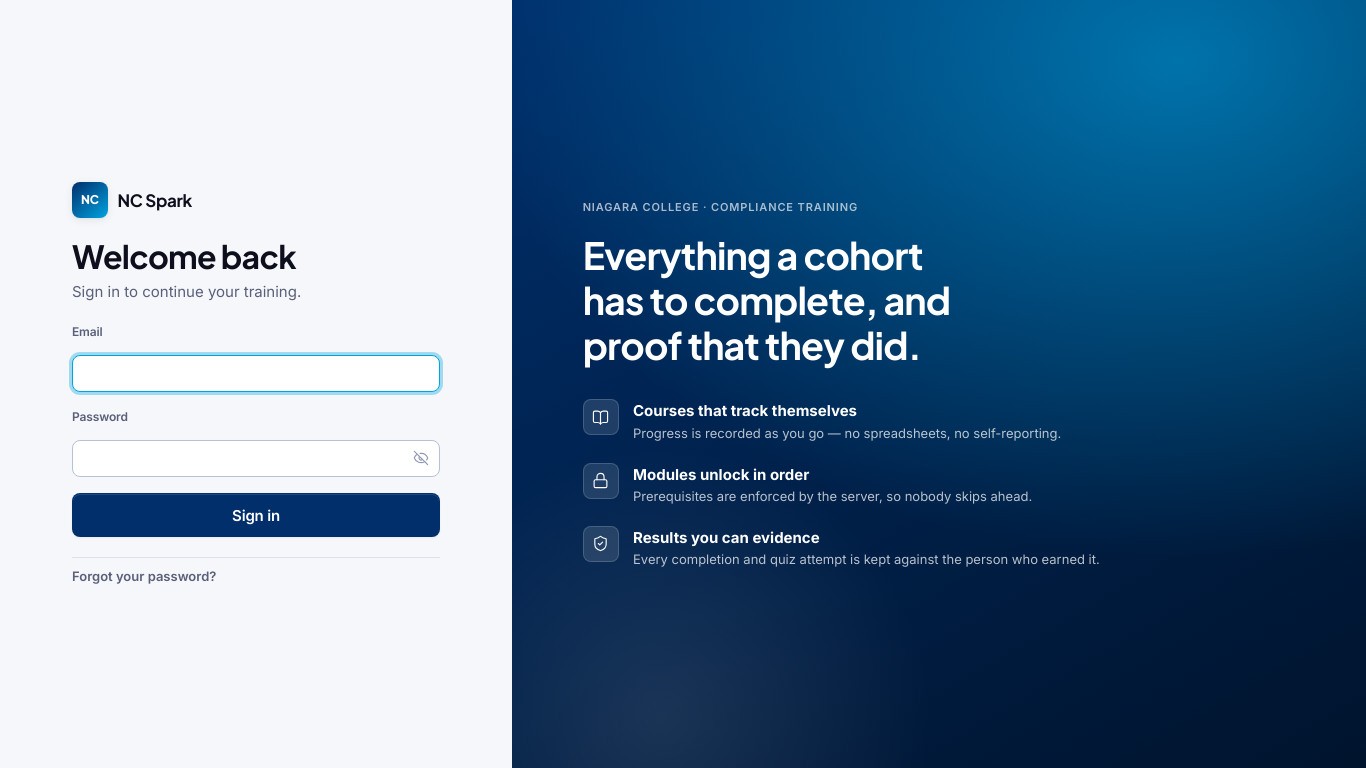
Test case: LoginPage › shows the server error message on failure
Type "a@b.com" into the field labelled "Email" at (256, 374), box [72, 355, 440, 392]
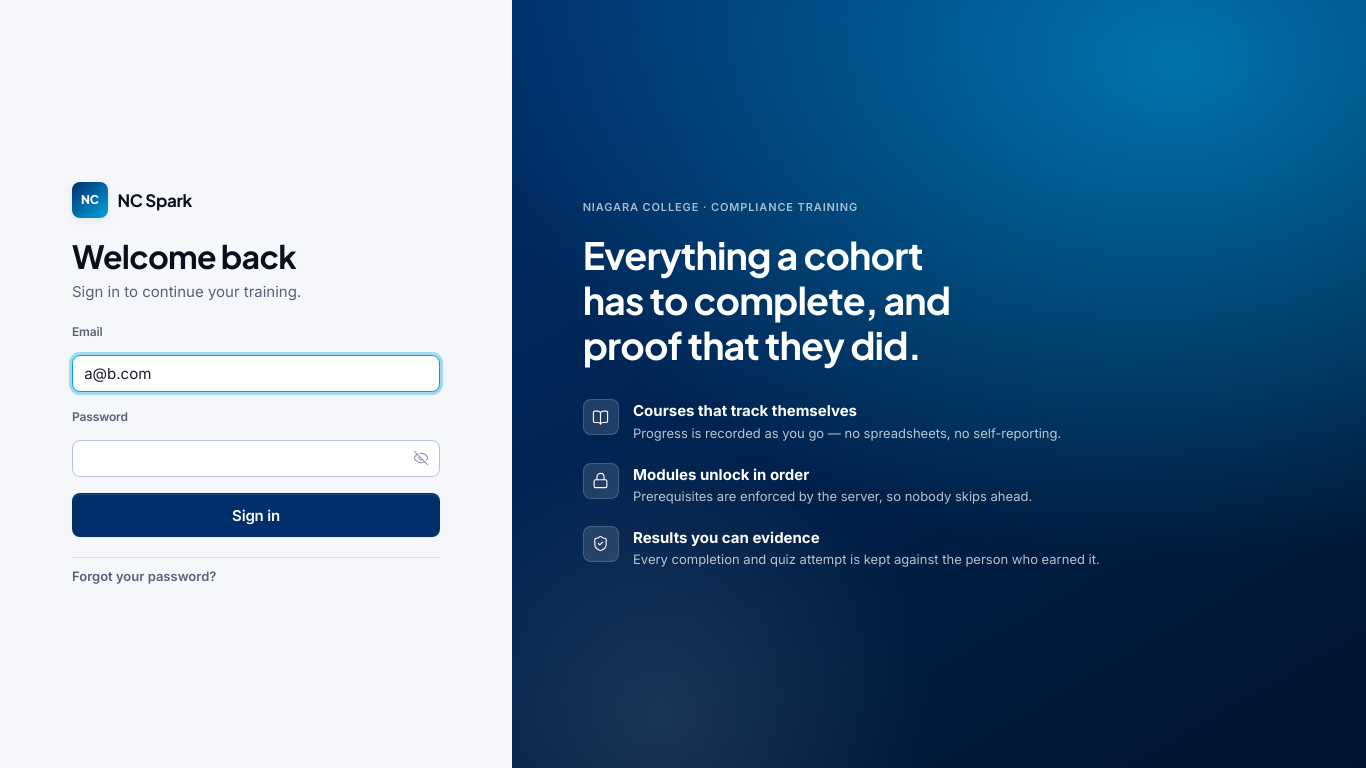
Type "wrong" into the password field labelled "Password" at (256, 458), box [72, 440, 440, 477]
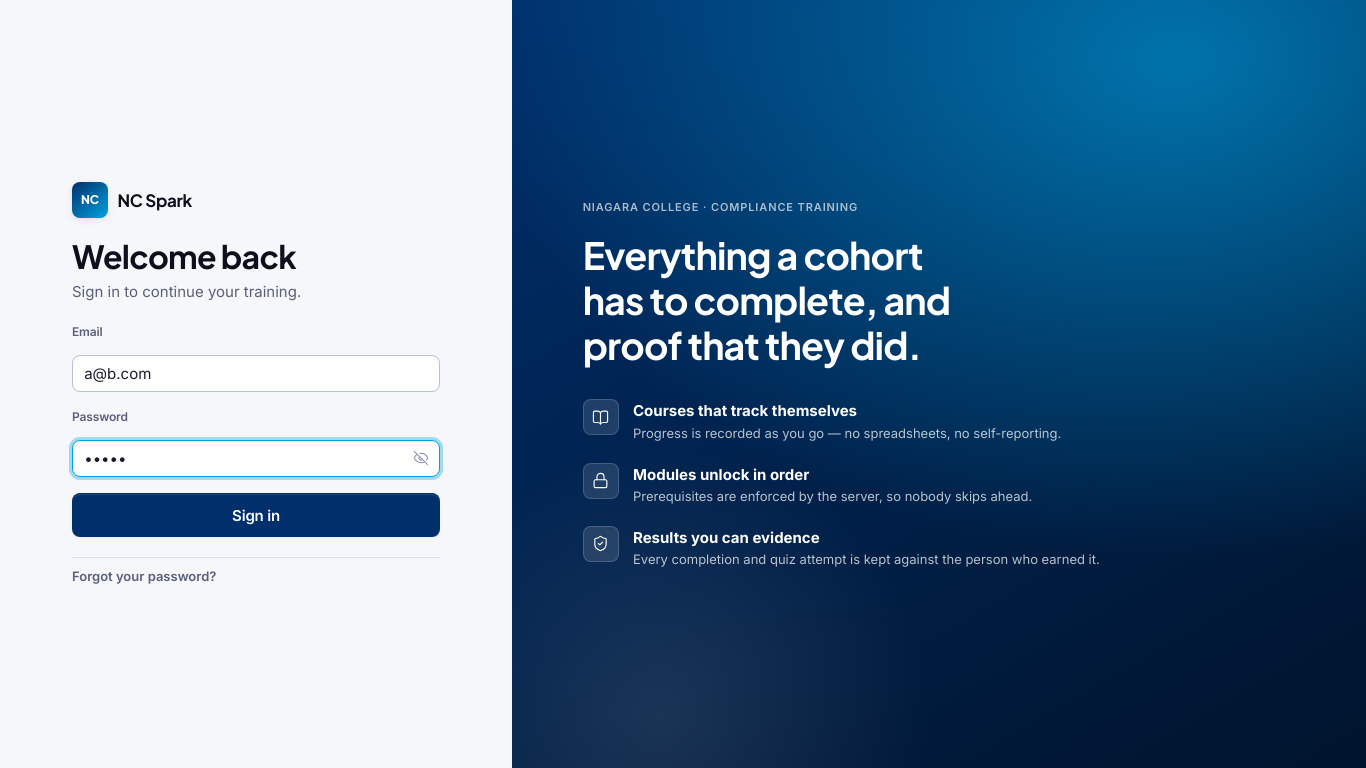
Click the button "Sign in" at (256, 515), box [72, 493, 440, 537]
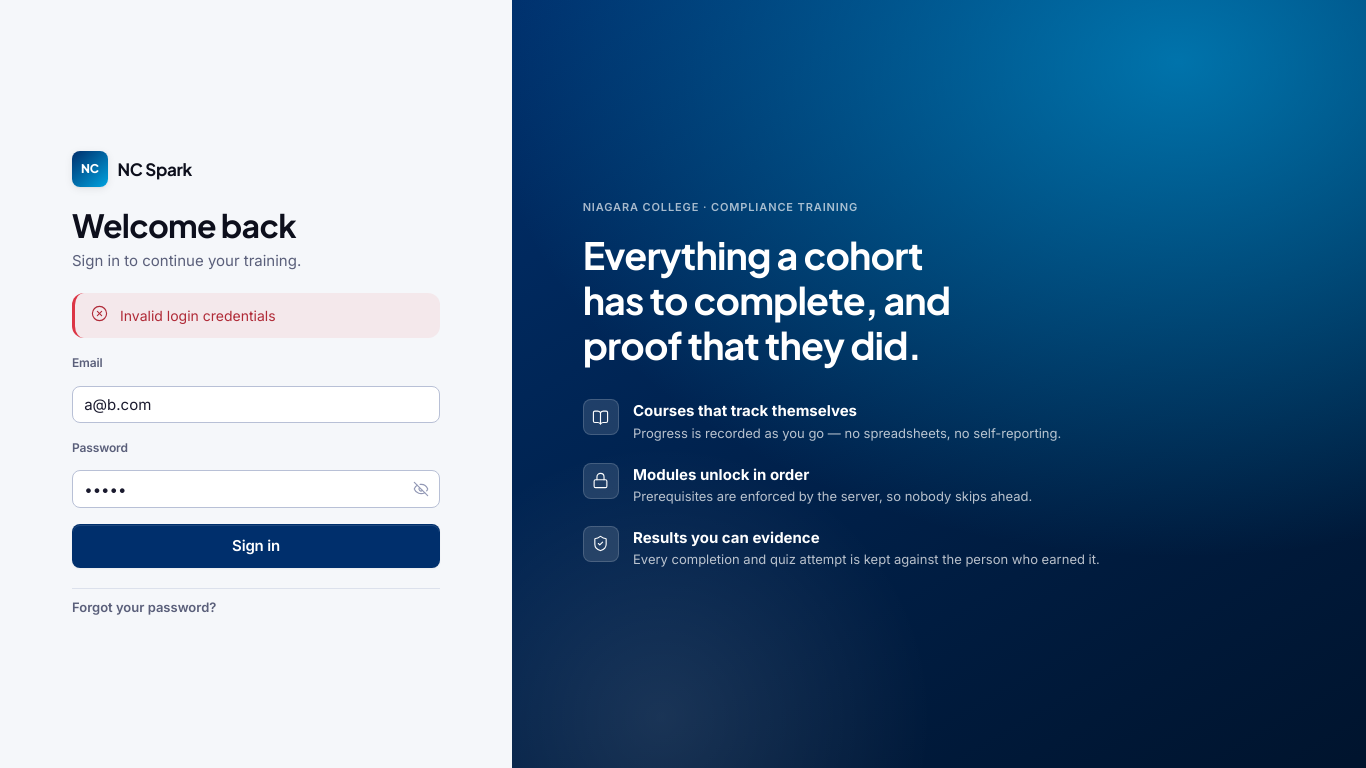
Check: the message reads "Invalid login credentials", box [120, 307, 276, 324]
